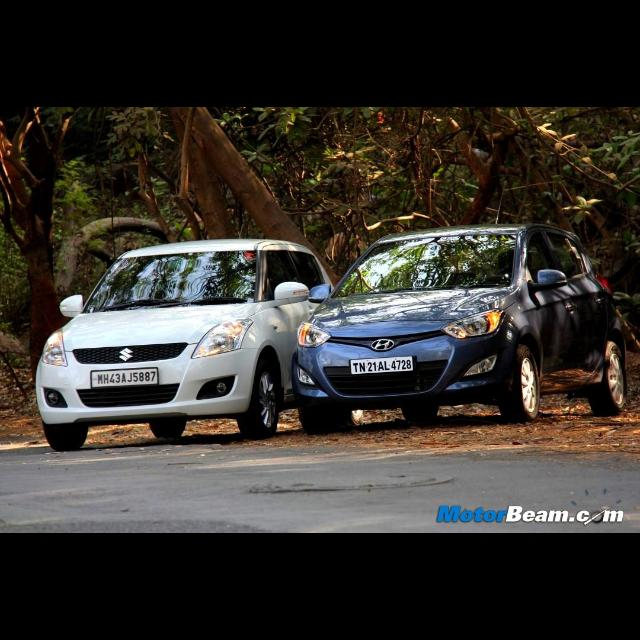vehicles: (290, 222, 620, 426), (34, 237, 323, 448)
